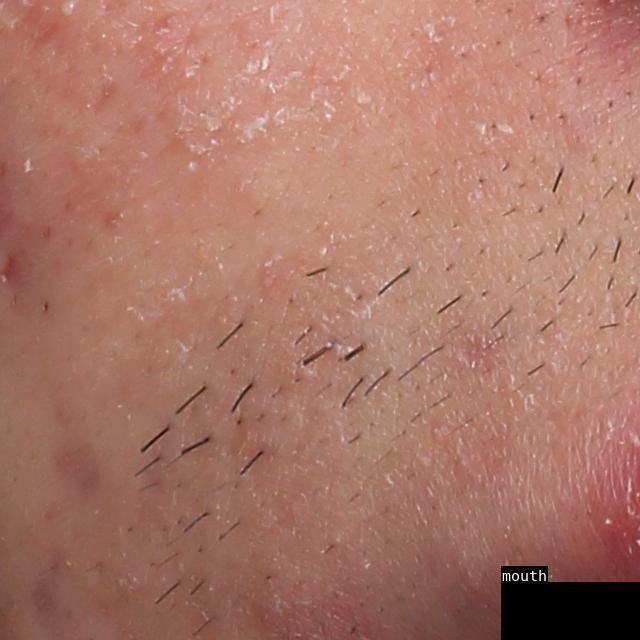atrophic_scar: (83, 76, 129, 124)
